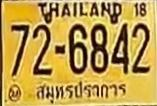2: (131, 23, 150, 73), (32, 25, 51, 74)
4: (111, 23, 129, 74)
6: (69, 23, 87, 73)
7: (10, 24, 29, 74)
8: (90, 24, 108, 73)
SPK: (32, 80, 127, 101)
